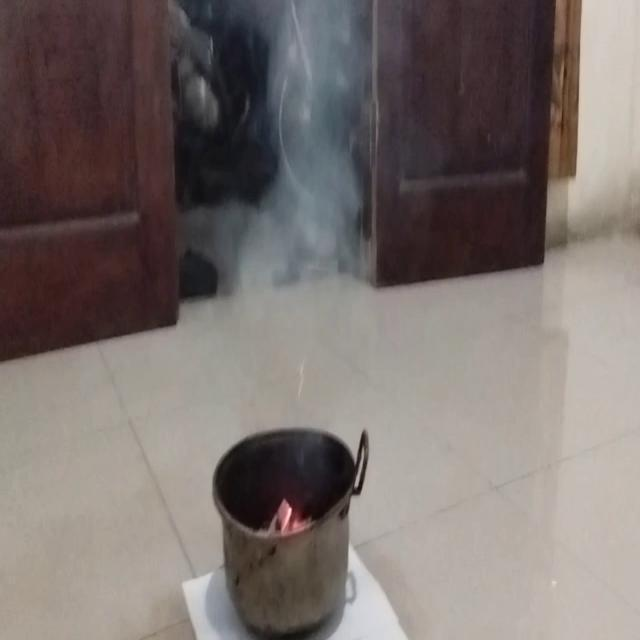fire: (250, 0, 367, 243)
